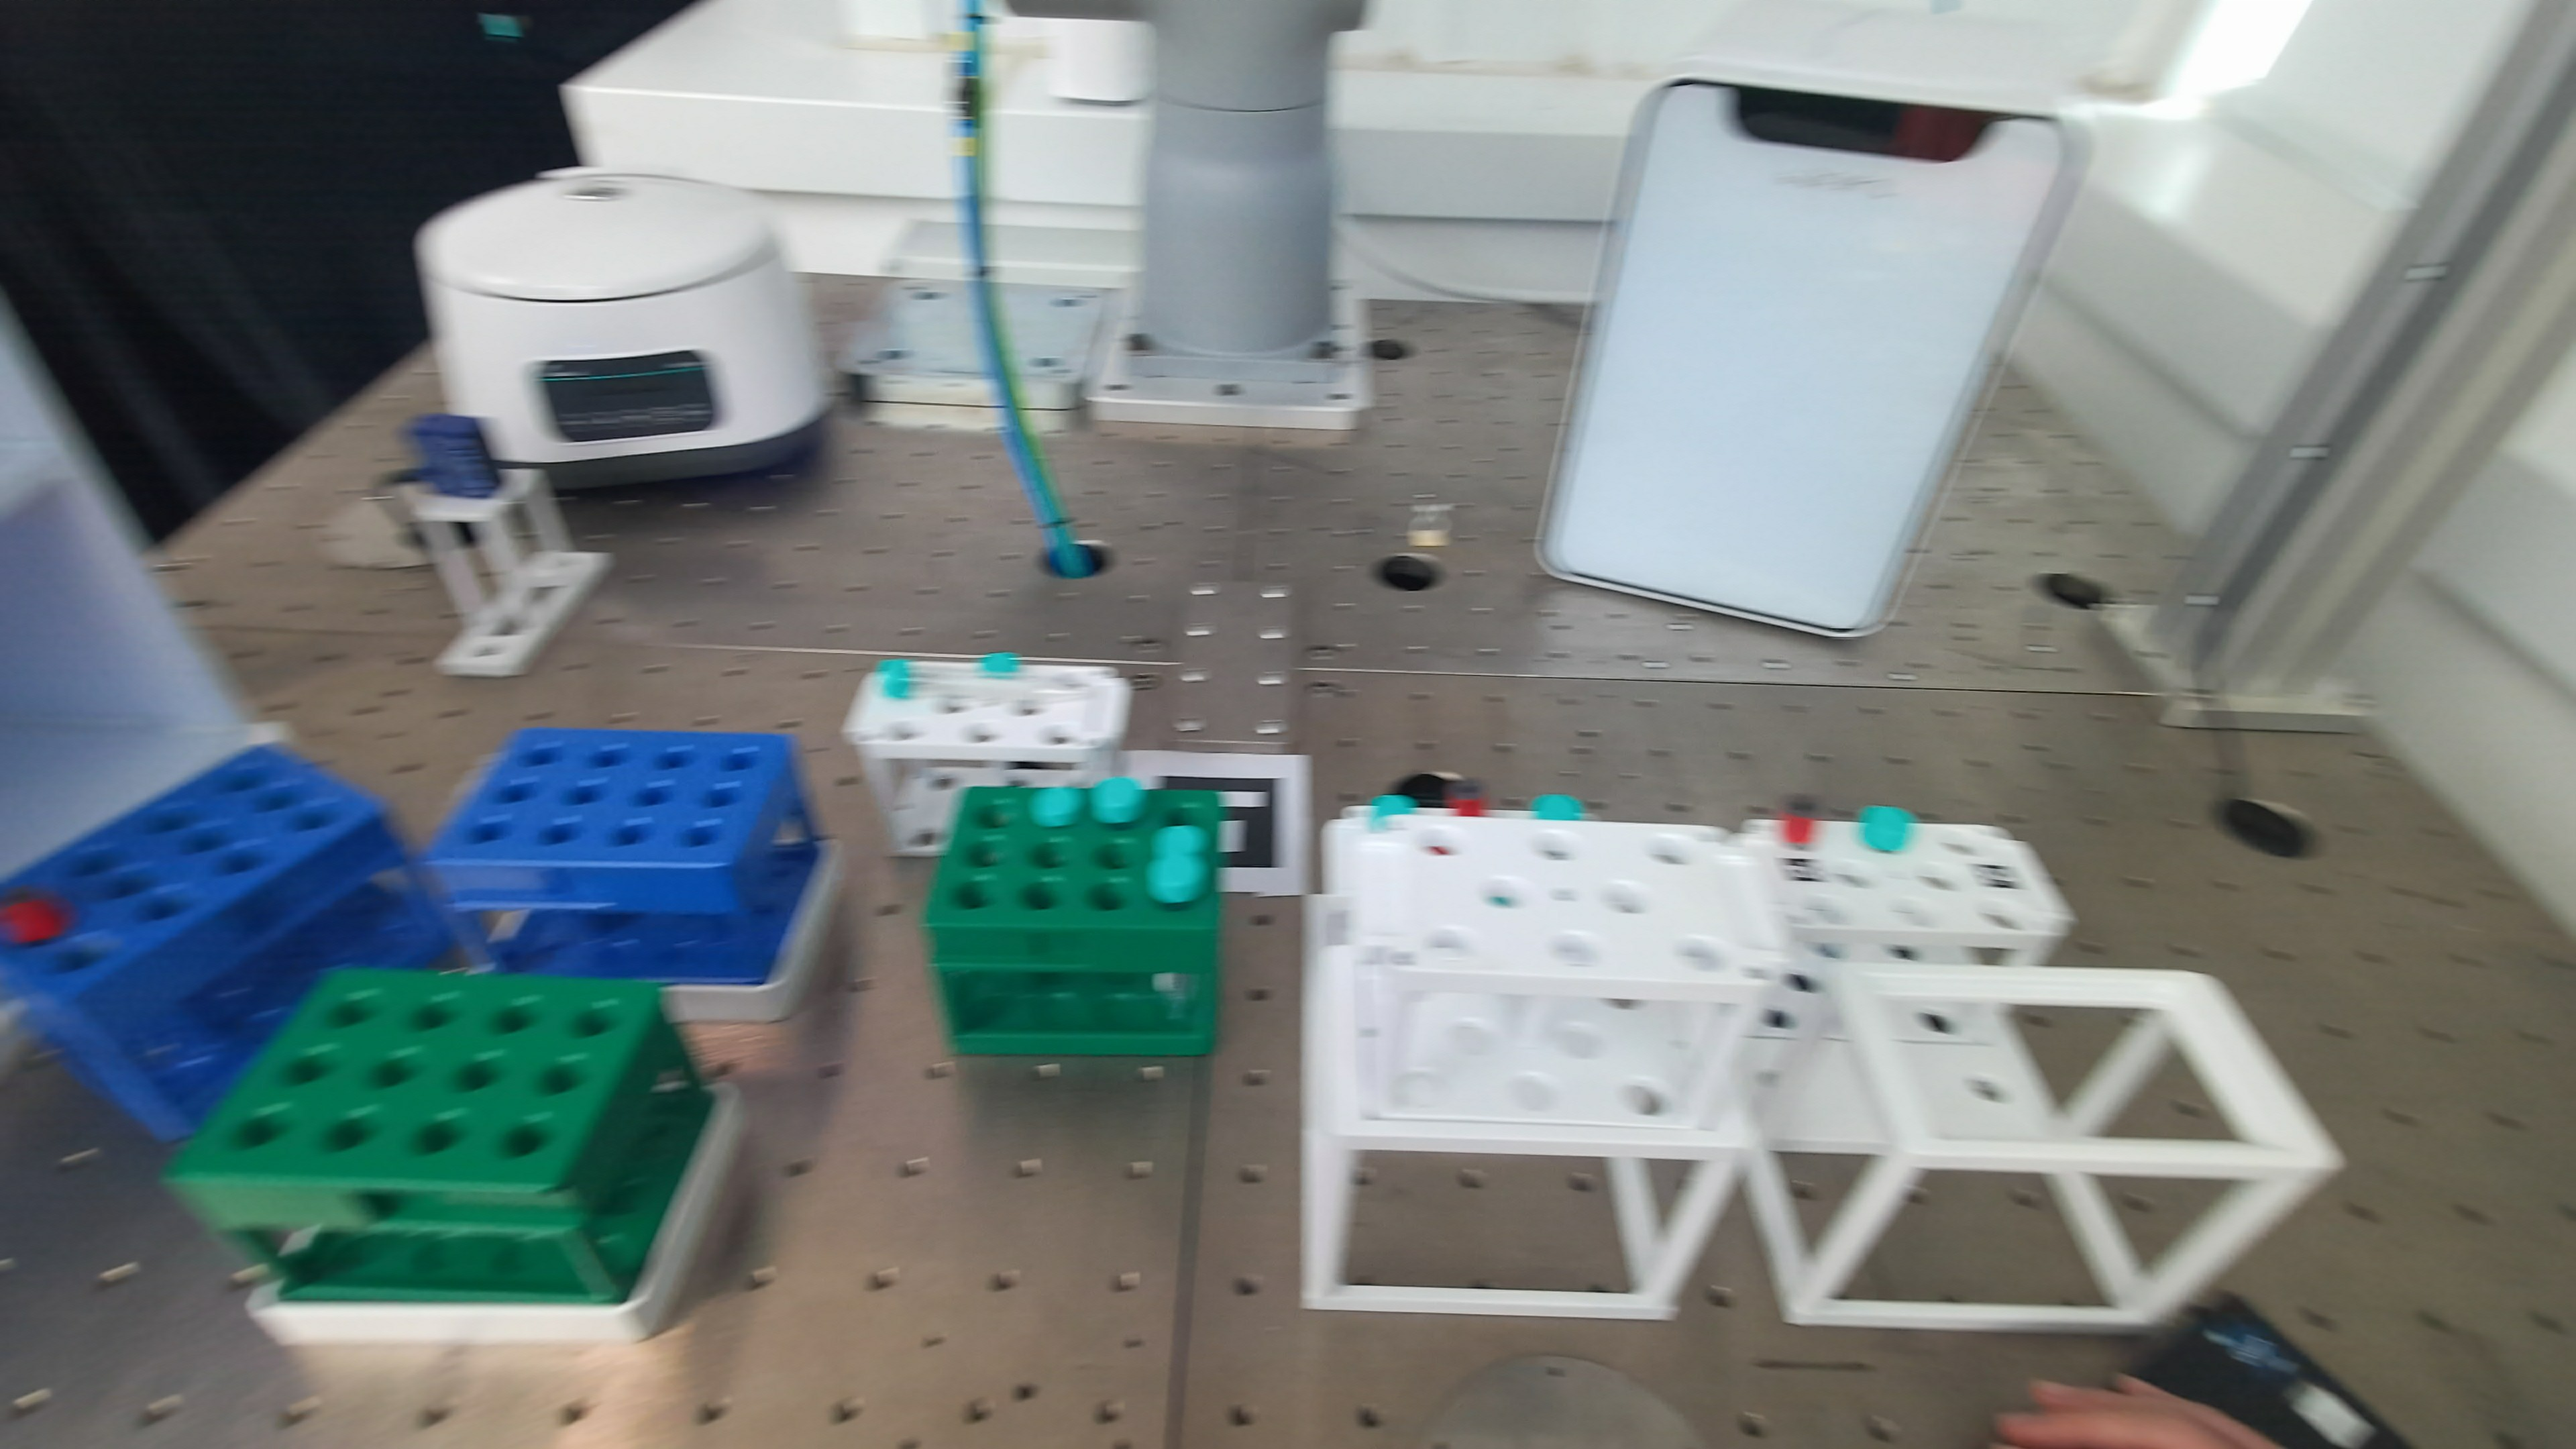10ML_centrifuge_tube: (877, 653, 1021, 700), (1146, 824, 1211, 906), (1089, 776, 1146, 826), (1859, 806, 1915, 853), (1367, 794, 1417, 829), (1531, 794, 1585, 821)
10ML_sorting_tube_rack: (0, 745, 451, 1140), (425, 727, 819, 984)
5ML_centrifuge_tube: (1030, 787, 1083, 828), (1152, 824, 1210, 857)
5ML_sorting_tube_rack: (166, 969, 714, 1334), (926, 787, 1221, 1055)
blood_tube: (1780, 813, 1815, 845), (1449, 793, 1488, 817)
centrifuge_close: (416, 170, 828, 490)
dispensing_tube_rack: (1303, 810, 2342, 1330), (844, 661, 1132, 855)
refrigerator_close: (1538, 7, 2086, 636)
sorting_tube_rack_base: (247, 1084, 745, 1345), (663, 841, 841, 1022)
tube_rack_storage_cabinet: (0, 299, 279, 878)
